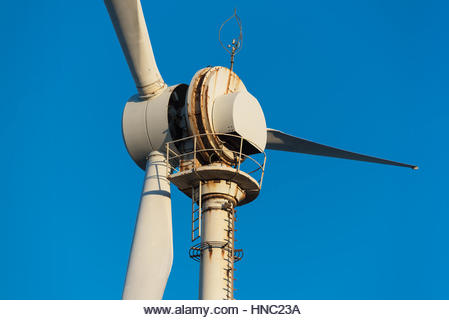faulty: (98, 9, 303, 253)
